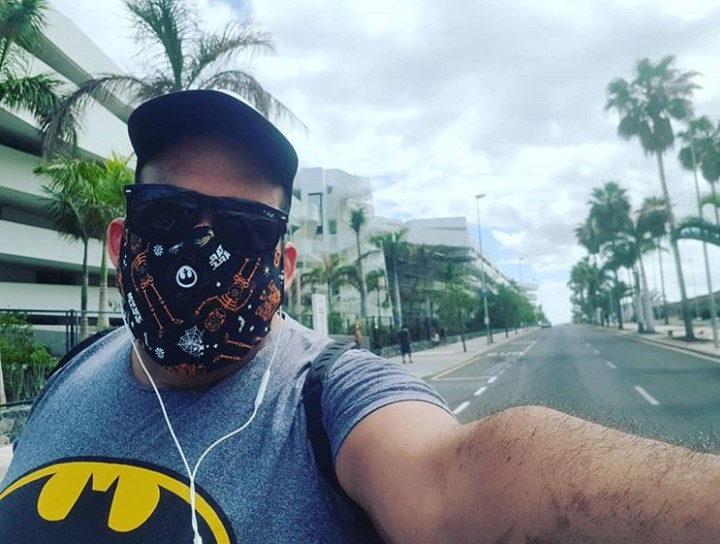face_with_mask: (115, 91, 301, 375)
